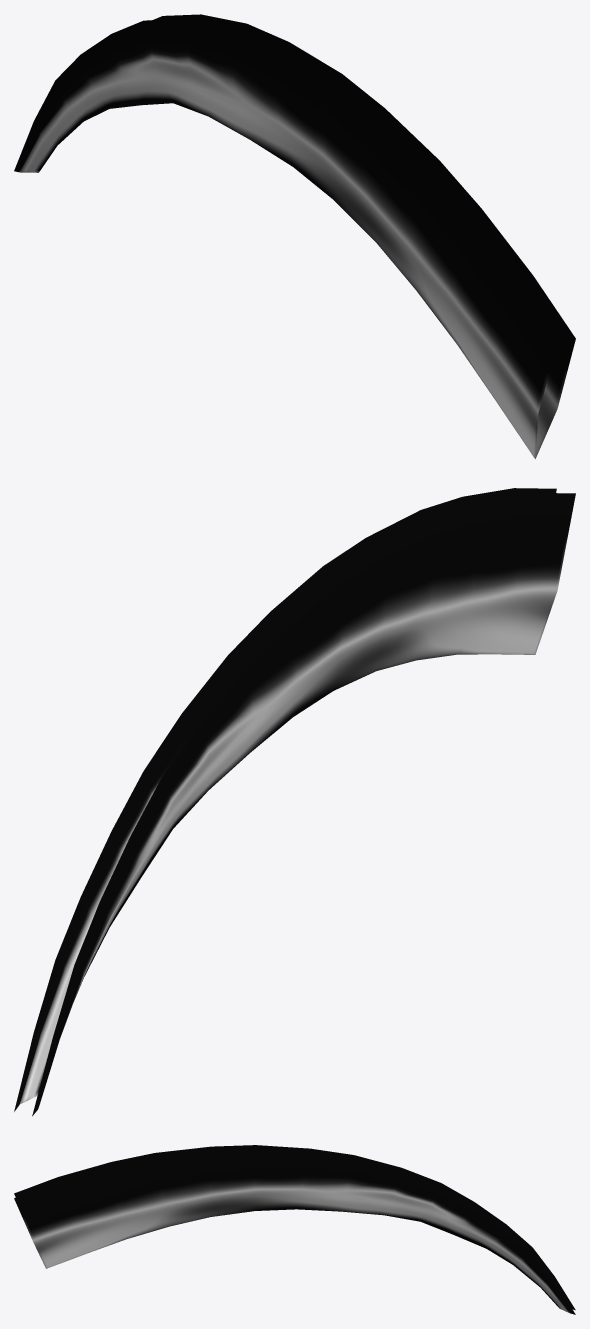
File: p_mesh_drillbot_schythe_anticipation02.fbx
3 views of the same model, one above another, from view 1: azimuth 30°, elevation 25°; view 2: azimuth 150°, elevation 25°; view 3: azimuth 270°, elevation 25° (orthographic). The views are drawn at different scales.
Parts seen in each view (by area): view 1: Cube.009; view 2: Cube.009; view 3: Cube.009.
Part boxes in pixels (x1=…): Cube.009: x1=14, y1=14, x2=575, y2=458; Cube.009: x1=14, y1=488, x2=575, y2=1116; Cube.009: x1=14, y1=1145, x2=575, y2=1314.
Size of the model in its own units: 1.57 by 25.02 by 77.15.
Materials: 1 (1 with a texture image).
